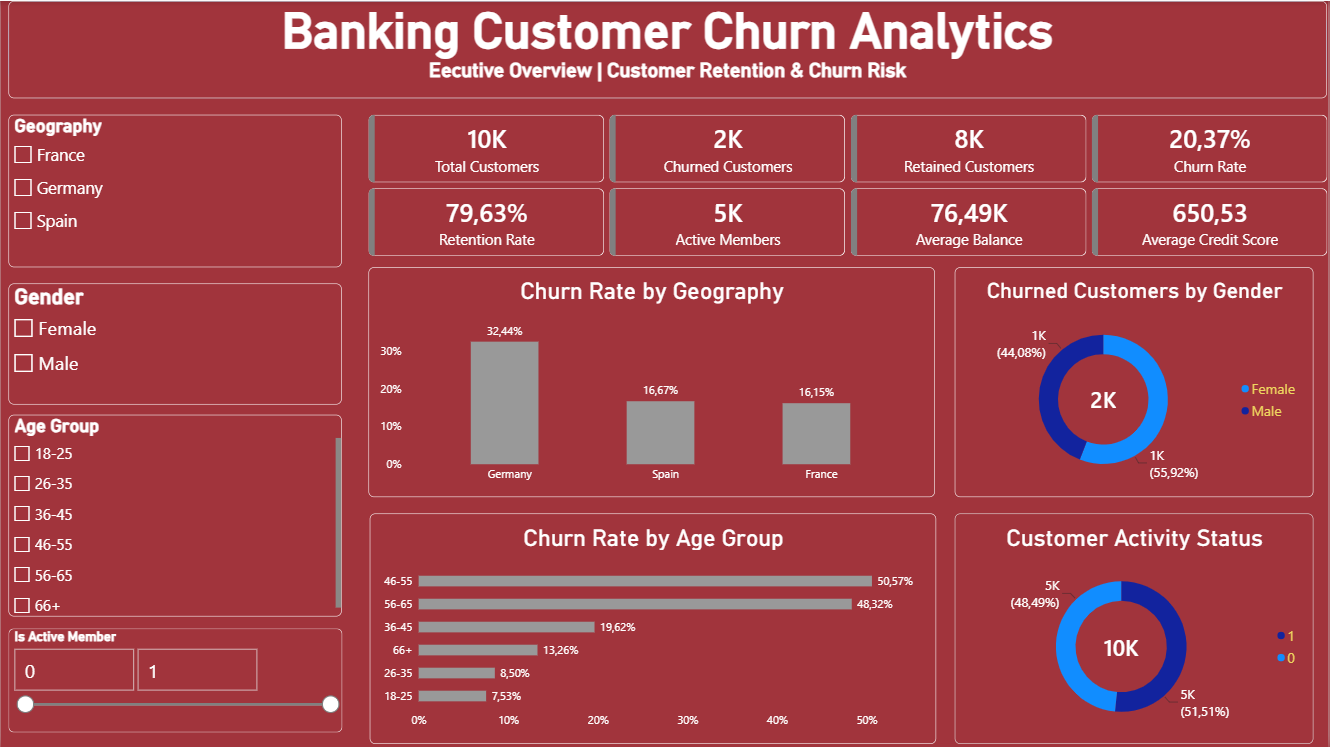

This screenshot's page, from the dashboard's own definition file:
{"tool":"powerbi","page":{"name":"Executive Churn Overview","canvas":[1920,1080],"ordinal":0},"visuals":[{"type":"textbox","box":[10.8,0,1908.8,279.2],"z":0},{"type":"shape","box":[10.8,0,1908.8,140.7],"z":1000},{"type":"textbox","box":[10.8,0,1908.8,140.7],"z":2000},{"type":"cardVisual","fields":{"Data":["churn.Total Customers","churn.Churned Customers","churn.Retained Customers","churn.Churn Rate","churn.Retention Rate","churn.Active Members","churn.Average Balance","churn.Average Credit Score"]},"box":[532,164.7,1388,204.5],"z":3000},{"type":"clusteredColumnChart","fields":{"Category":["churn.Geography"],"Y":["churn.Churn Rate"]},"box":[532,385.5,819.8,333],"z":4000},{"type":"donutChart","fields":{"Category":["churn.Gender"],"Y":["churn.Churned Customers"]},"box":[1380.8,385.5,519.4,333],"z":5000},{"type":"donutChart","title":"Customer Activity Status","fields":{"Category":["churn.Is Active Member"],"Y":["churn.Total Customers"]},"box":[1380.8,742,519.4,333.3],"z":6000},{"type":"slicer","fields":{"Values":["churn.Geography"]},"box":[10.8,164.5,482.6,220.7],"z":7000},{"type":"slicer","fields":{"Values":["churn.Gender"]},"box":[10.8,409,482.6,175.3],"z":8000},{"type":"slicer","fields":{"Values":["churn.Age Group"]},"box":[10.8,599.5,482.6,292.2],"z":9000},{"type":"slicer","fields":{"Values":["churn.Is Active Member"]},"box":[10.8,908.9,483,150],"z":10000},{"type":"clusteredBarChart","fields":{"Category":["churn.Age Group"],"Y":["churn.Churn Rate"]},"box":[533.8,742,820.2,333.3],"z":11000}]}

Visuals, with their boxes in screenshot pixels (x1, y1, x2, y2), scaled from the page's 1920x1080 canvas onto the 1330x747 screenshot:
textbox: pyautogui.locateOnScreen(7, 0, 1329, 193)
shape: pyautogui.locateOnScreen(7, 0, 1329, 97)
textbox: pyautogui.locateOnScreen(7, 0, 1329, 97)
cardVisual - churn.Total Customers x churn.Churned Customers: pyautogui.locateOnScreen(369, 114, 1329, 255)
clusteredColumnChart - churn.Geography x churn.Churn Rate: pyautogui.locateOnScreen(369, 267, 936, 497)
donutChart - churn.Gender x churn.Churned Customers: pyautogui.locateOnScreen(956, 267, 1316, 497)
"Customer Activity Status" donutChart: pyautogui.locateOnScreen(956, 513, 1316, 744)
slicer - churn.Geography: pyautogui.locateOnScreen(7, 114, 342, 266)
slicer - churn.Gender: pyautogui.locateOnScreen(7, 283, 342, 404)
slicer - churn.Age Group: pyautogui.locateOnScreen(7, 415, 342, 617)
slicer - churn.Is Active Member: pyautogui.locateOnScreen(7, 629, 342, 732)
clusteredBarChart - churn.Age Group x churn.Churn Rate: pyautogui.locateOnScreen(370, 513, 938, 744)
